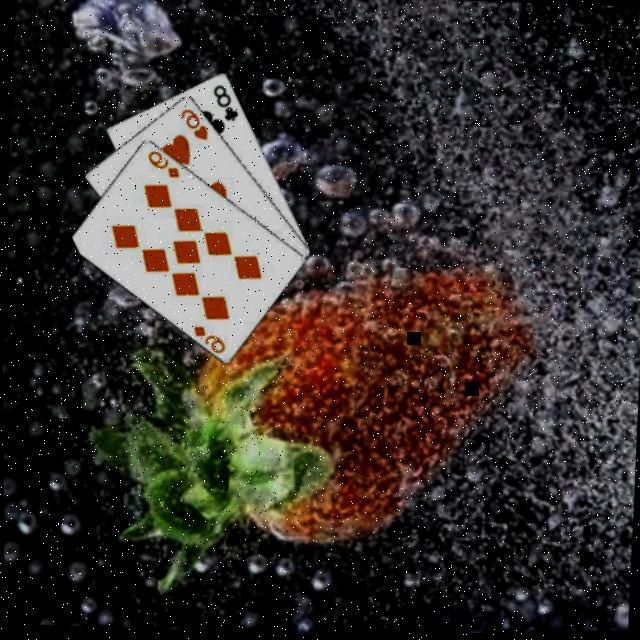6H: (178, 104, 214, 142)
8C: (210, 81, 244, 124)
9D: (145, 146, 185, 180), (190, 321, 230, 355)
